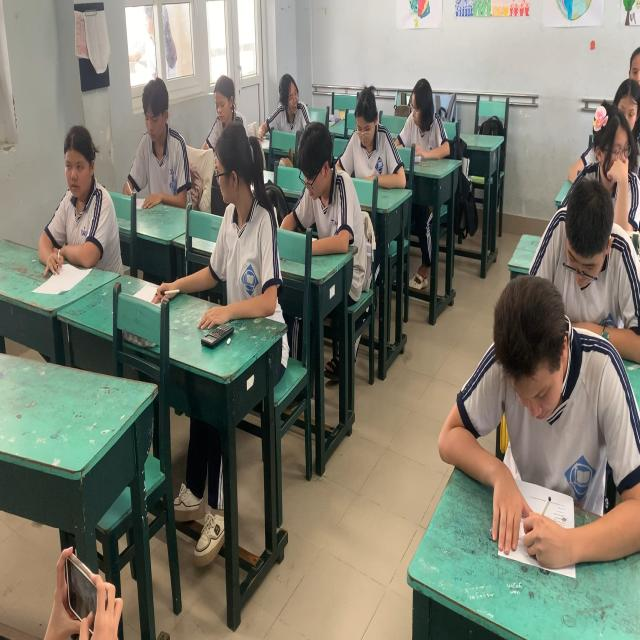cheating: (202, 115, 282, 331), (404, 66, 454, 182), (272, 59, 302, 143)
not_cheating: (478, 262, 614, 502), (549, 182, 640, 324), (44, 110, 112, 276), (118, 67, 189, 213), (294, 109, 362, 252), (337, 78, 407, 195), (573, 100, 640, 200), (196, 64, 248, 145), (605, 27, 640, 132)
